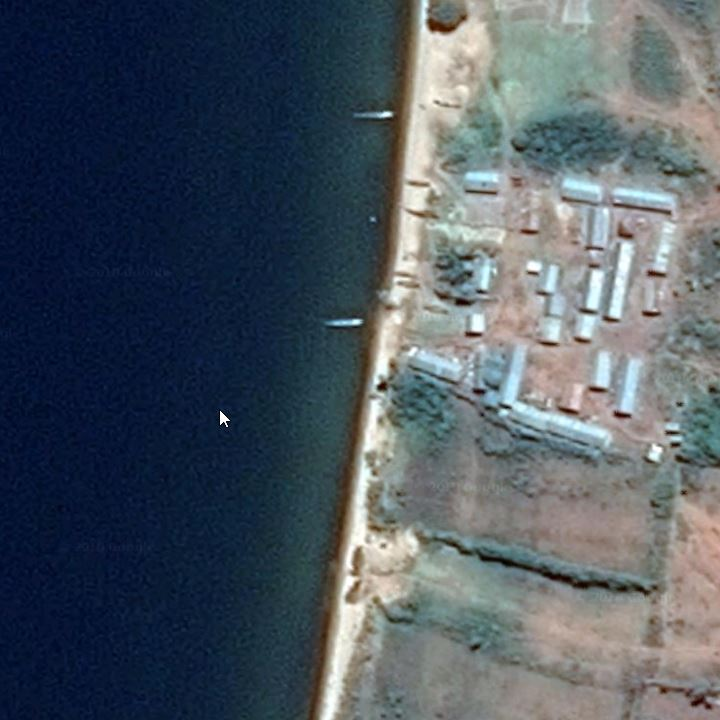boat: (317, 314, 367, 334), (351, 105, 398, 126), (394, 174, 438, 192), (400, 205, 438, 225), (426, 96, 464, 114), (420, 301, 453, 319), (391, 267, 423, 283), (390, 280, 422, 293)
